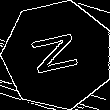N_E: (28, 30, 88, 81)
